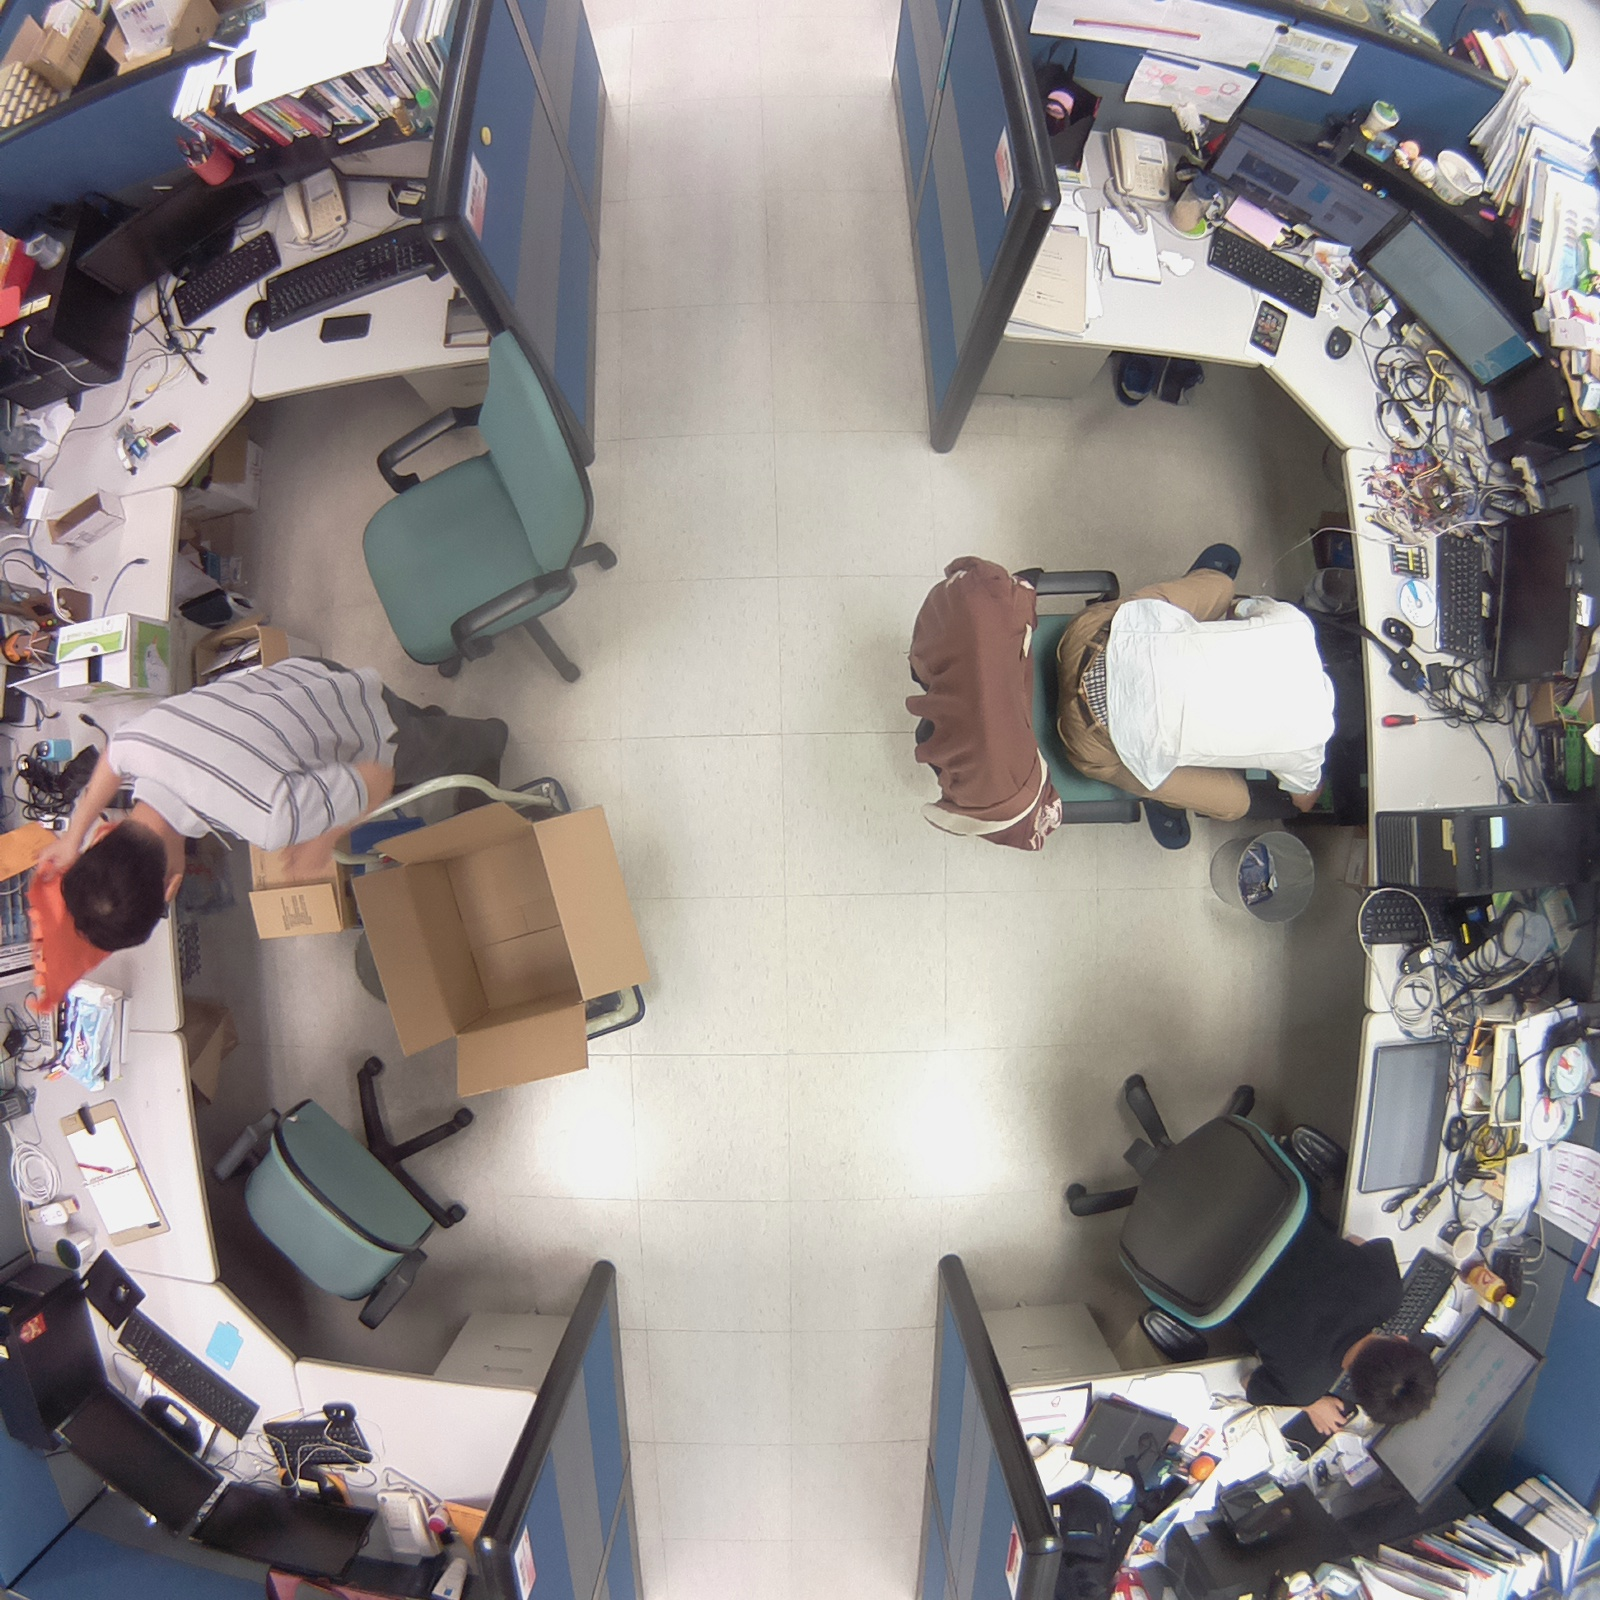chair: (335, 306, 647, 701), (188, 1029, 488, 1347)
head: (52, 810, 184, 953), (1339, 1327, 1448, 1431)
sitting: (1050, 1055, 1453, 1444), (888, 537, 1358, 868)
standing: (48, 634, 518, 971)
